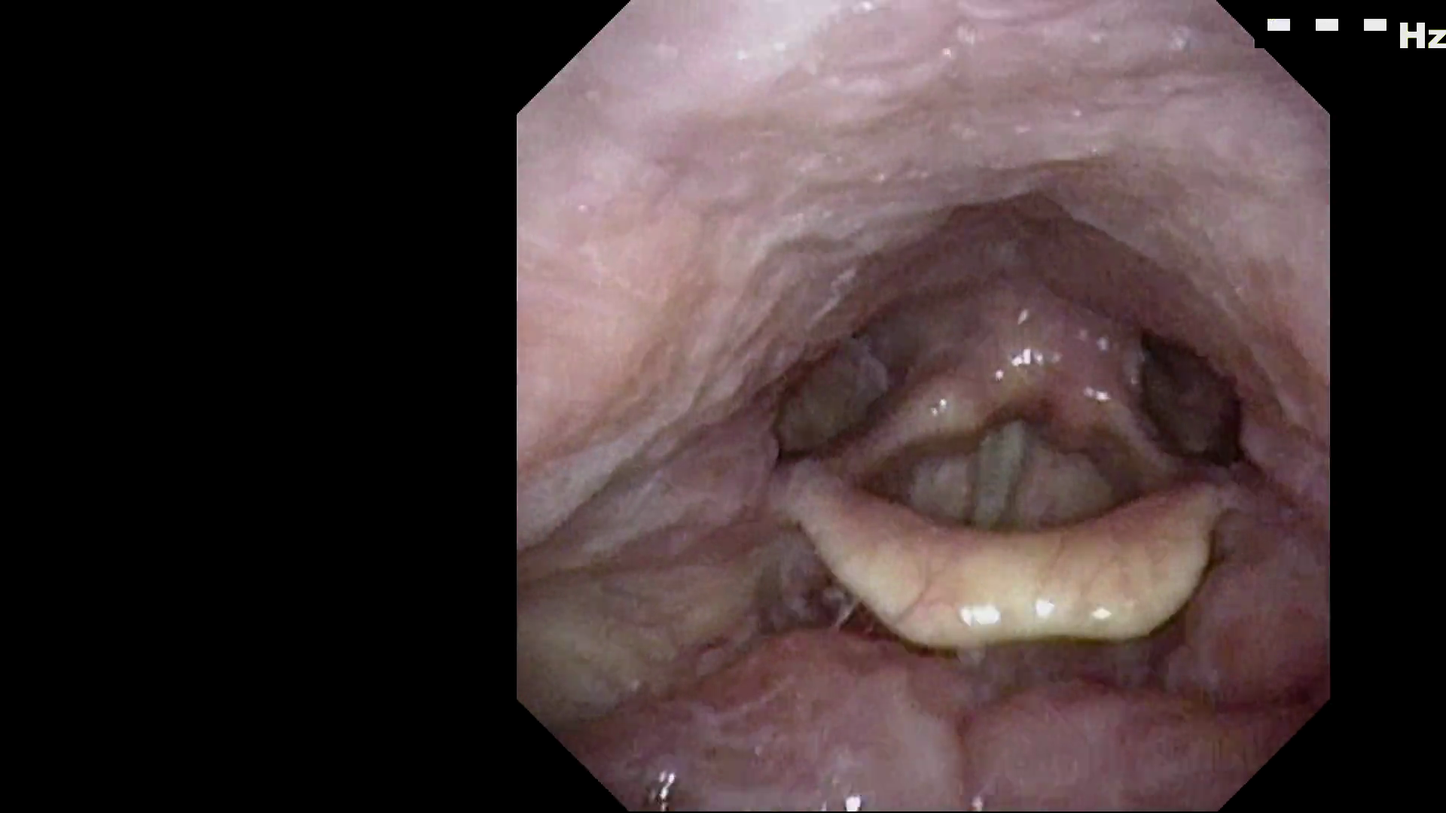epiglottis: (742, 441, 1255, 673)
trachea: (938, 389, 1053, 526)
